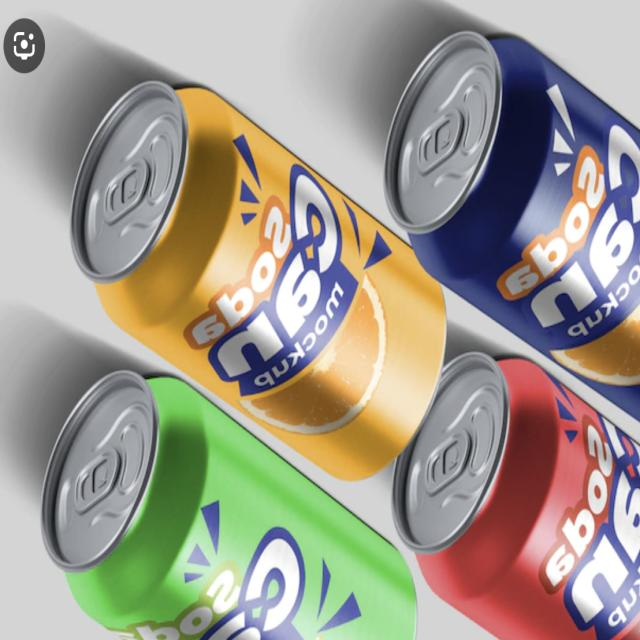can: (49, 70, 475, 496)
